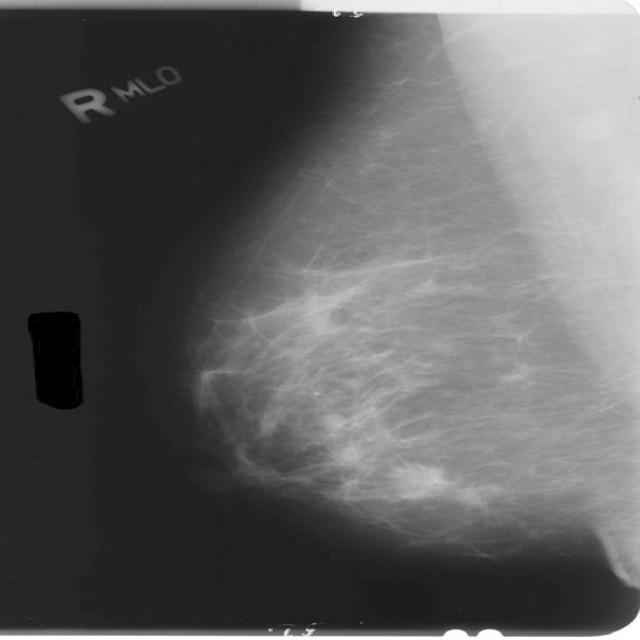tumour: (388, 463, 442, 500)
